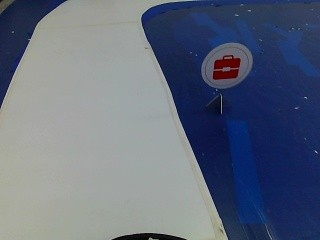company: (207, 44, 252, 88)
